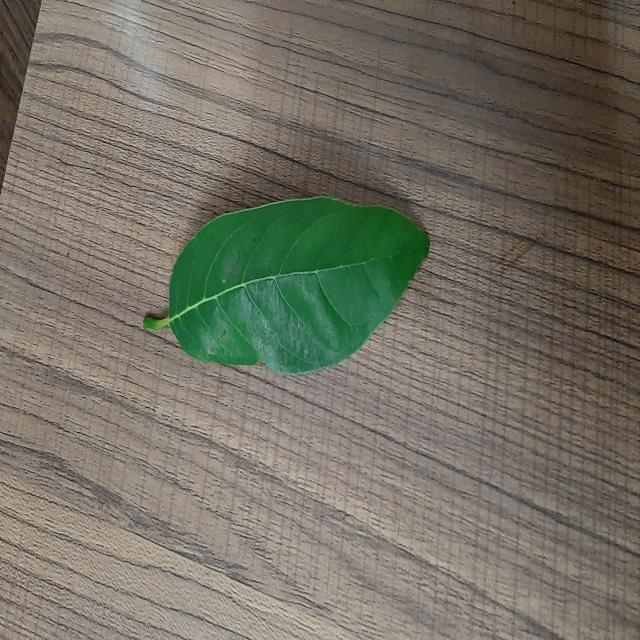seethaphala: (144, 198, 429, 374)
